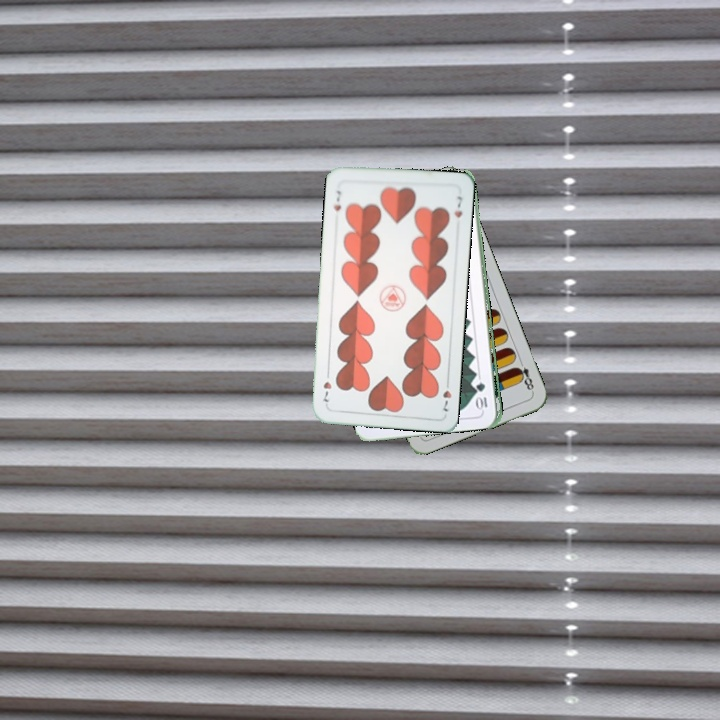E8: (512, 356, 536, 395)
G10: (475, 378, 490, 412)
H7: (439, 375, 454, 414), (330, 187, 344, 213)
